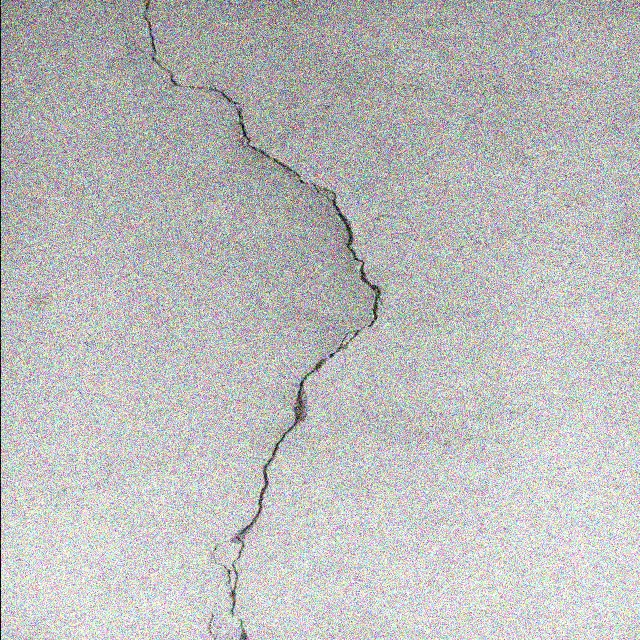SurfaceCrack: (86, 0, 405, 639)
